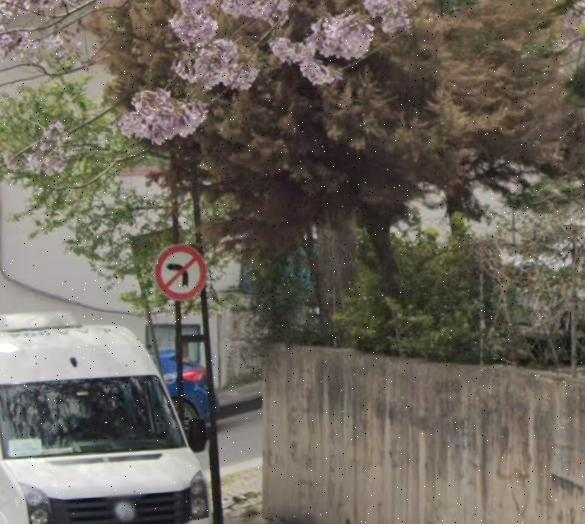leftturnsareforbidden: (159, 245, 201, 297)
